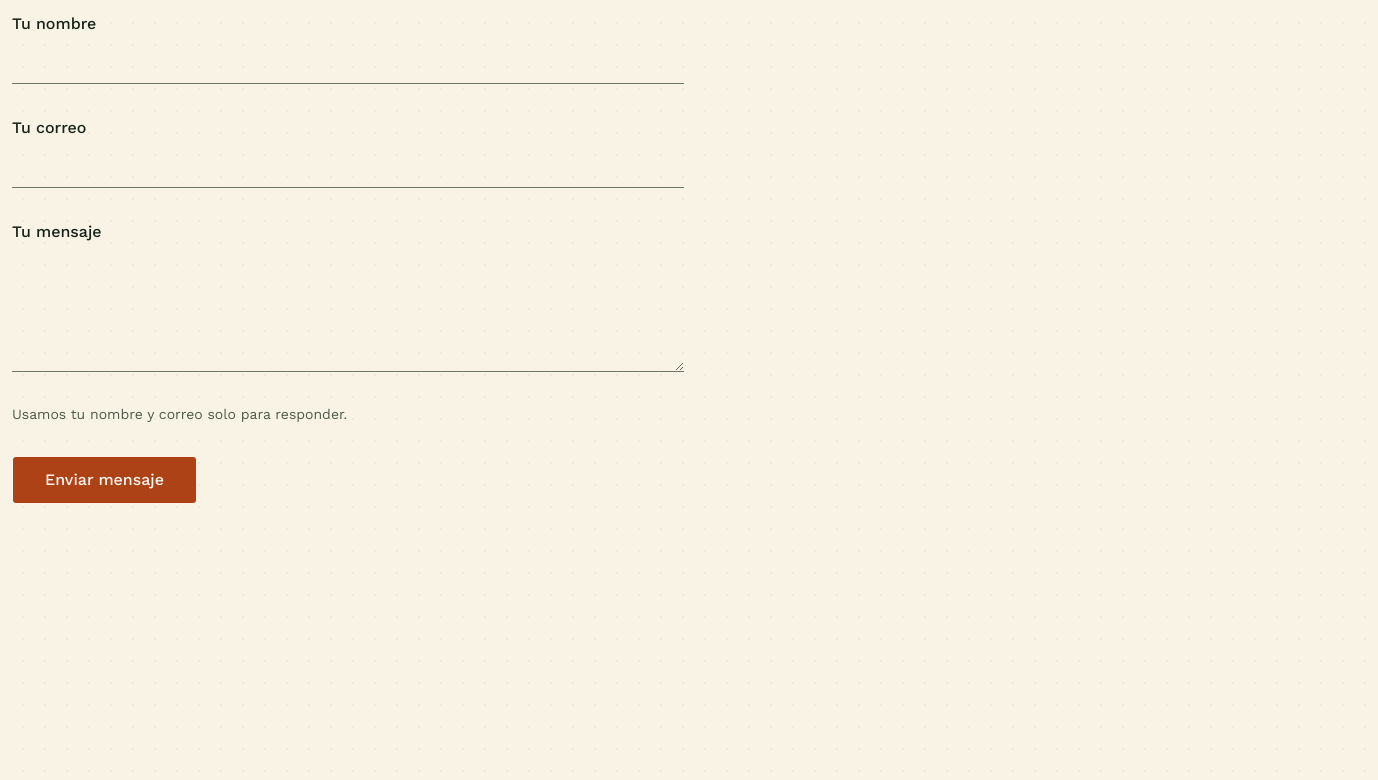
Scenario: ContactForm › rate limit: mensagem geral traduzida, sem texto técnico
In the field labelled "Tu nombre": (348, 60) [12, 36, 684, 84], type "Ana"
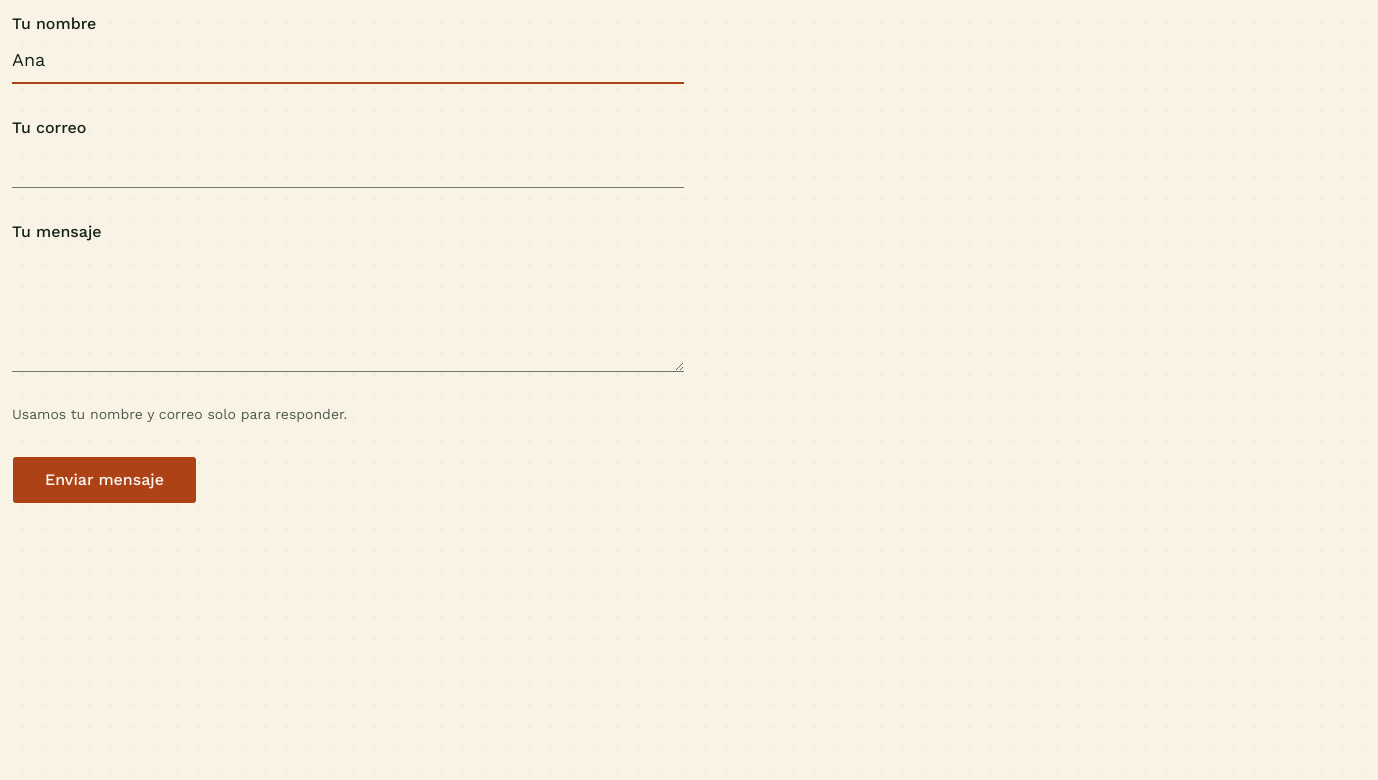
In the field labelled "Tu correo": (348, 164) [12, 140, 684, 188], type "ana@exemplo.com"
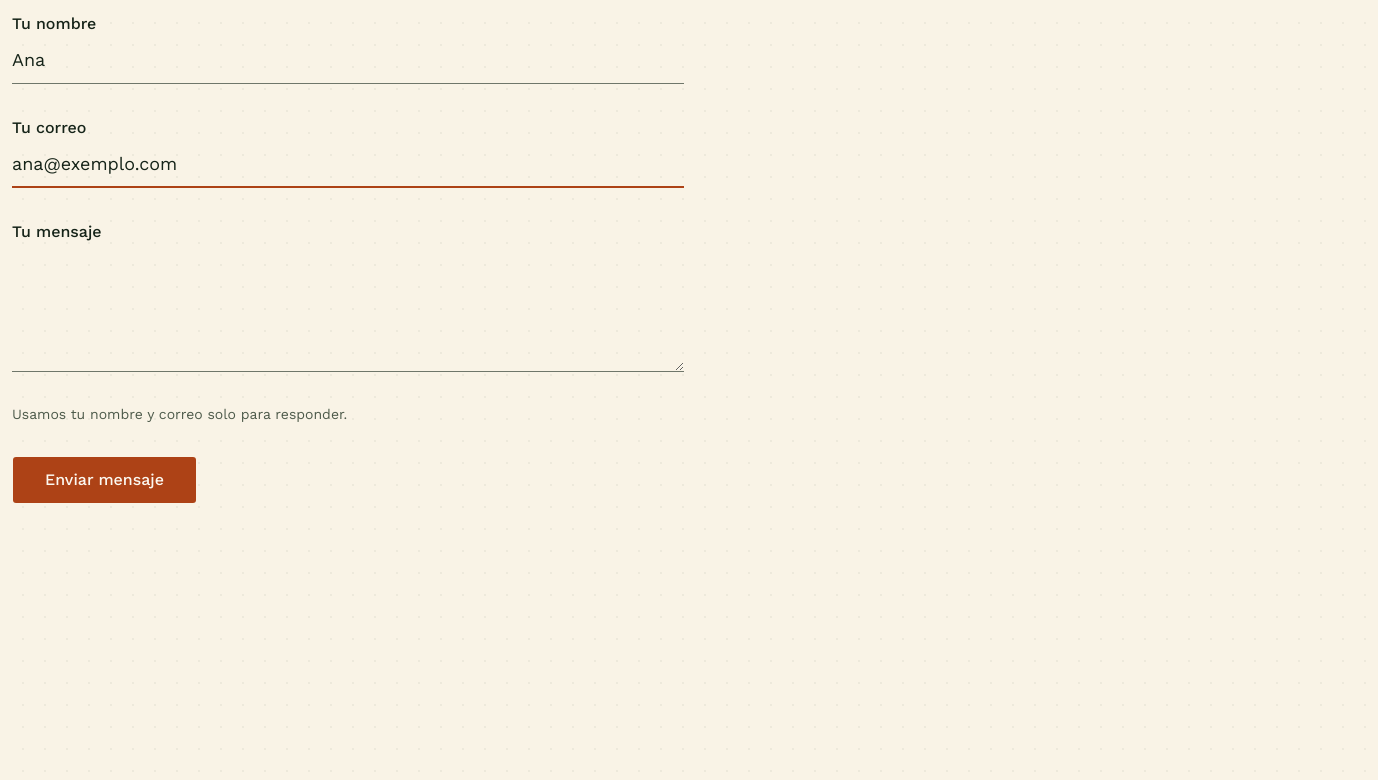
In the text box labelled "Tu mensaje": (348, 308) [12, 244, 684, 372], type "Olá!"
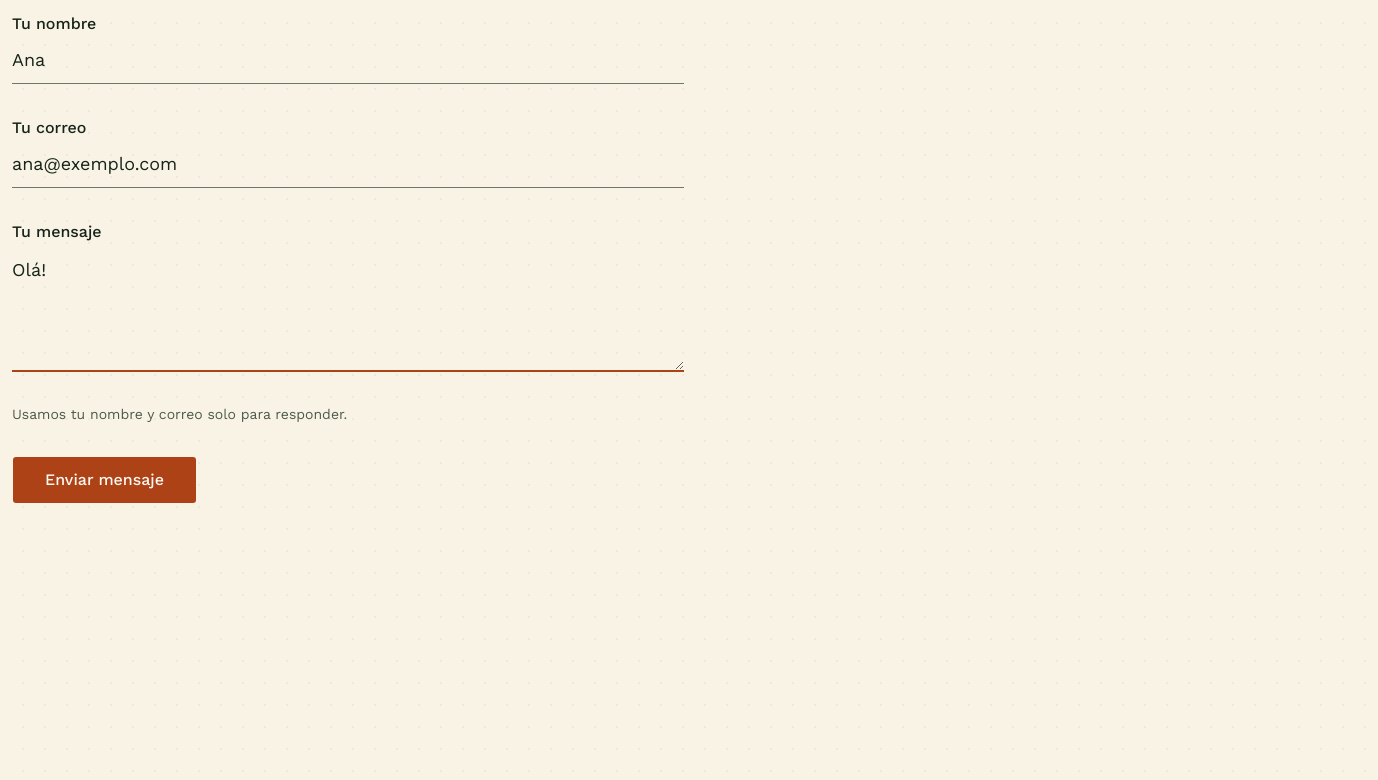
Click the button "Enviar mensaje": click(104, 480) [12, 456, 197, 504]
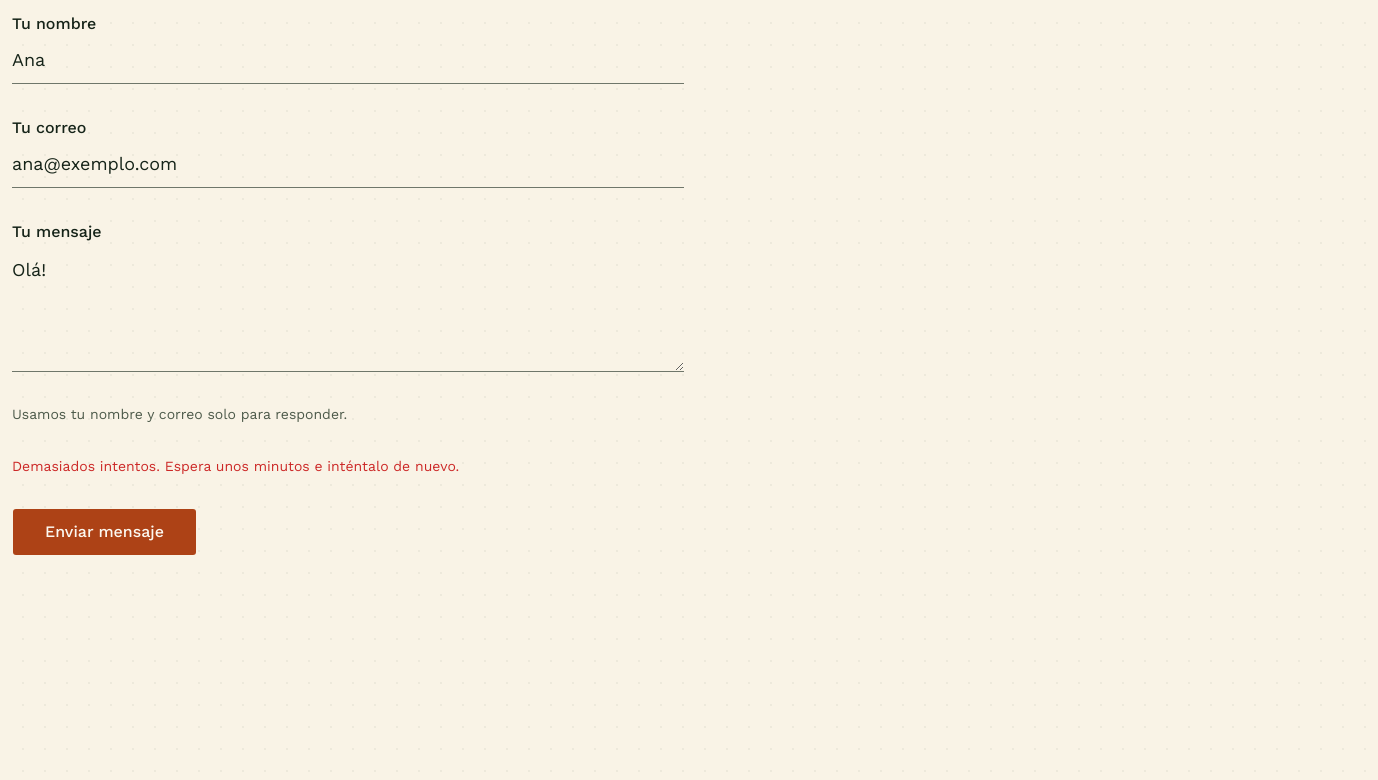
Expected: the message shows "Demasiados intentos", [12, 458, 459, 474]
